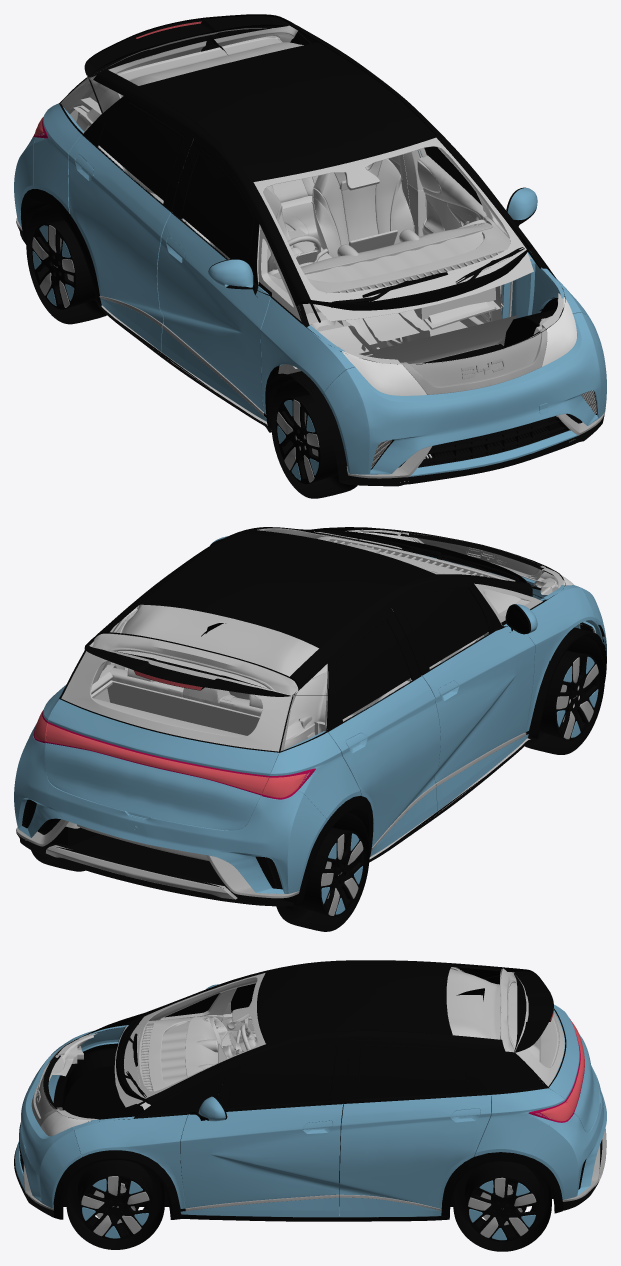
File: 2024_byd_dolphin_premium_long_range.glb
3 renders of one model, top to bottom at view 1: azimuth 30°, elevation 25°; view 2: azimuth 150°, elevation 25°; view 3: azimuth 270°, elevation 25°, orthographic. The views are drawn at different scales.
Parts seen in each view (by area): view 1: Object_5, Object_4, Object_7, Object_6, Object_8; view 2: Object_4, Object_5, Object_6, Object_7, Object_8; view 3: Object_8, Object_4, Object_7, Object_5, Object_6.
Part boxes in pixels (box(x1,y1,x2,y2)): Object_5: box(17, 21, 606, 486); Object_4: box(14, 28, 599, 483); Object_7: box(21, 14, 605, 484); Object_6: box(16, 25, 547, 498); Object_8: box(272, 24, 605, 435); Object_4: box(14, 527, 601, 931); Object_5: box(16, 527, 606, 906); Object_6: box(69, 532, 606, 898); Object_7: box(22, 529, 604, 905); Object_8: box(16, 527, 325, 846); Object_8: box(23, 1031, 600, 1217); Object_4: box(19, 960, 606, 1251); Object_7: box(40, 967, 586, 1221); Object_5: box(14, 960, 606, 1217); Object_6: box(31, 967, 603, 1126).
Size of the model in its own units: 0.0833 by 0.0635 by 0.1635.
